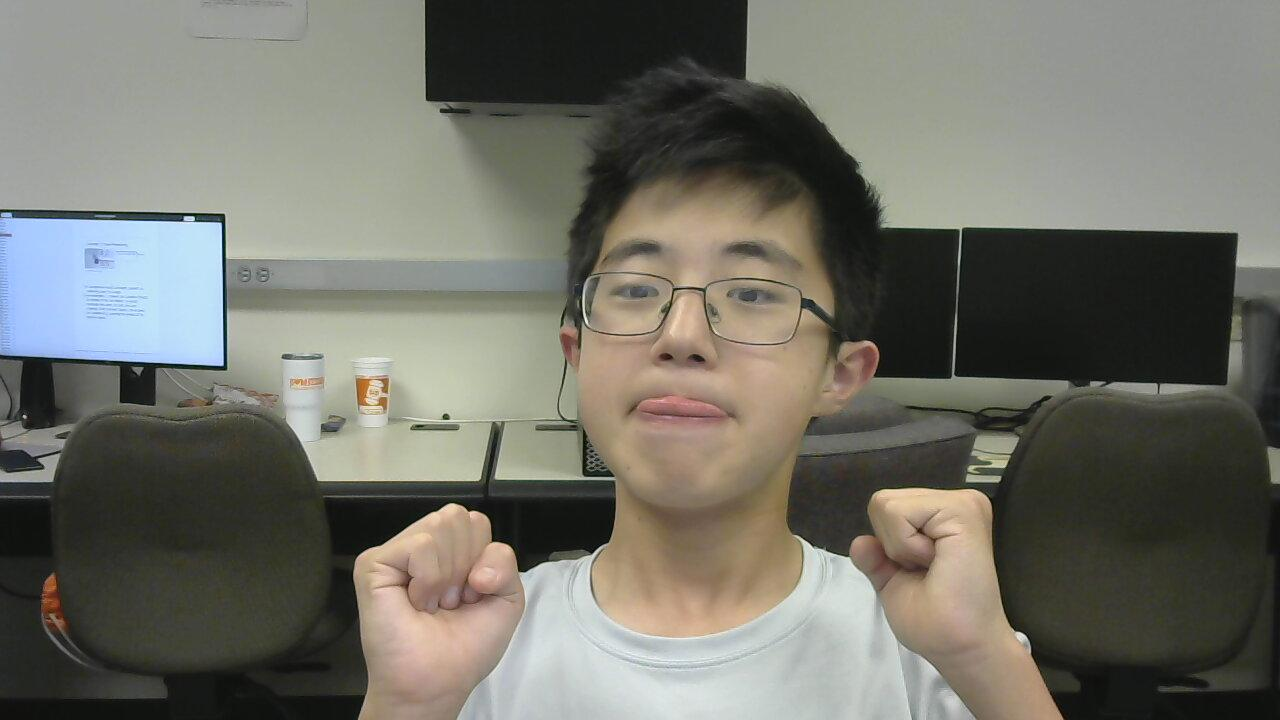fist: (336, 499, 532, 708), (851, 482, 1020, 673)
